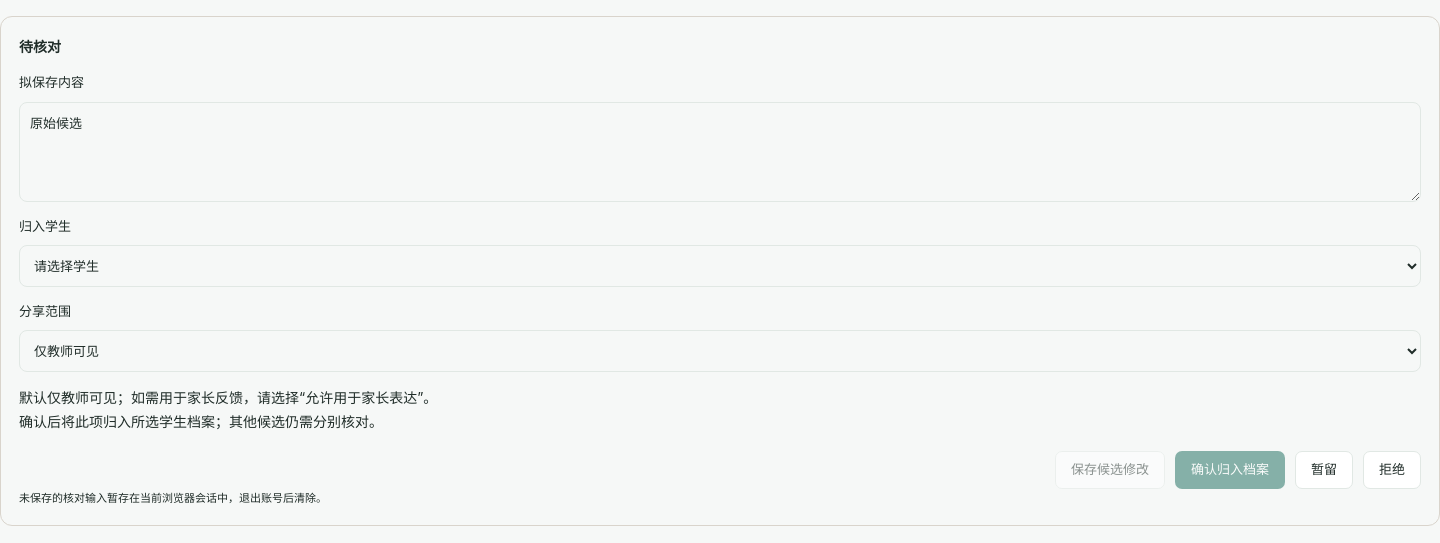
candidate drafts and confirmation recovery in synthetic sessions › does not ask for another review when a successful confirmation increments the server version
The width and height of the screenshot is (1440, 543).
Select "小雨 · 五年级" in the dropdown labelled "归入学生": [720, 266] box [19,245,1421,287]
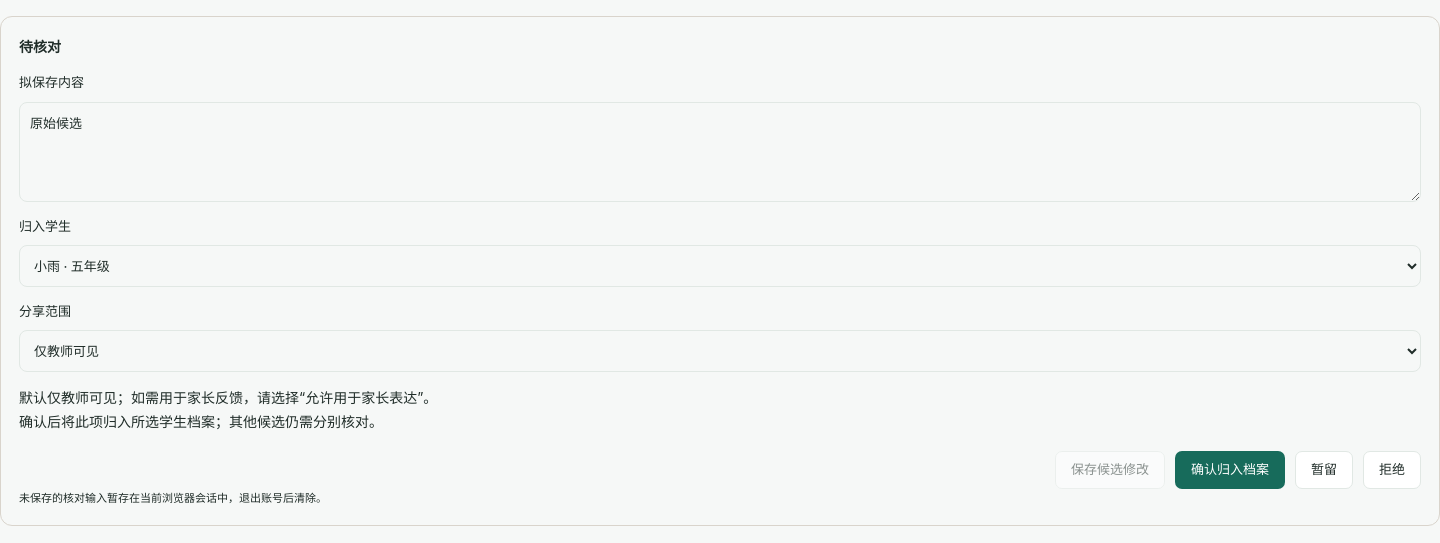
Click the button "确认归入档案": [1230, 470] box [1175,451,1285,489]
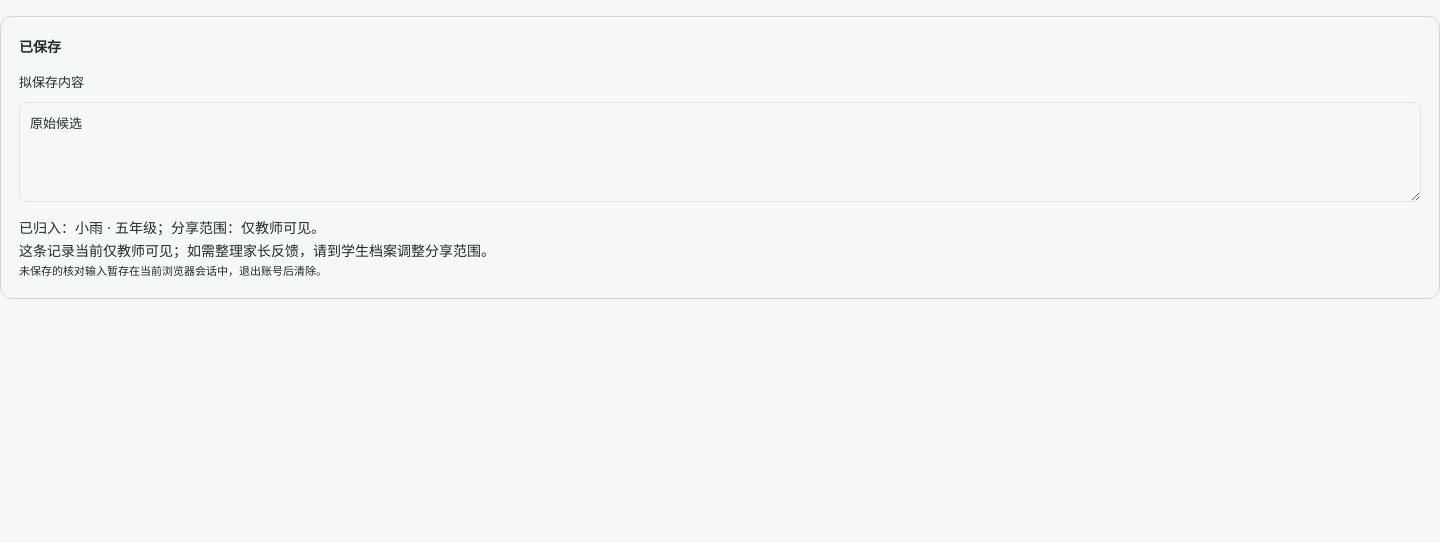
Check: the text "已保存" is shown, box [19,38,61,55]
